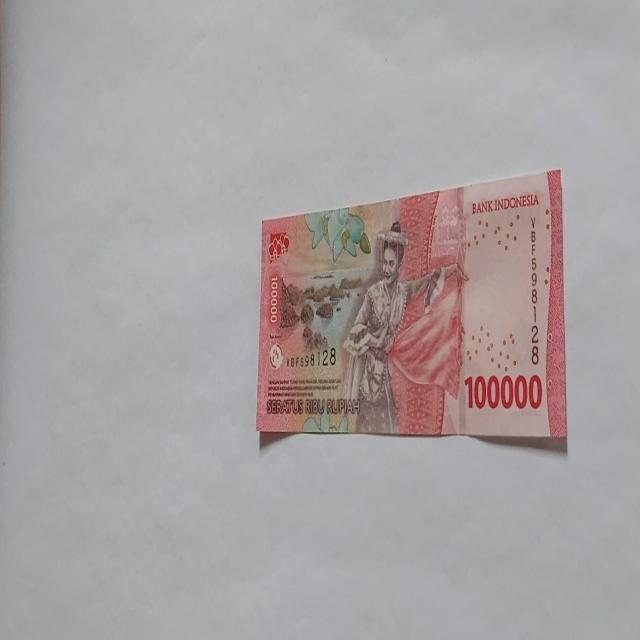seratus ribu rupiah: (255, 167, 567, 445), (340, 220, 450, 433)
